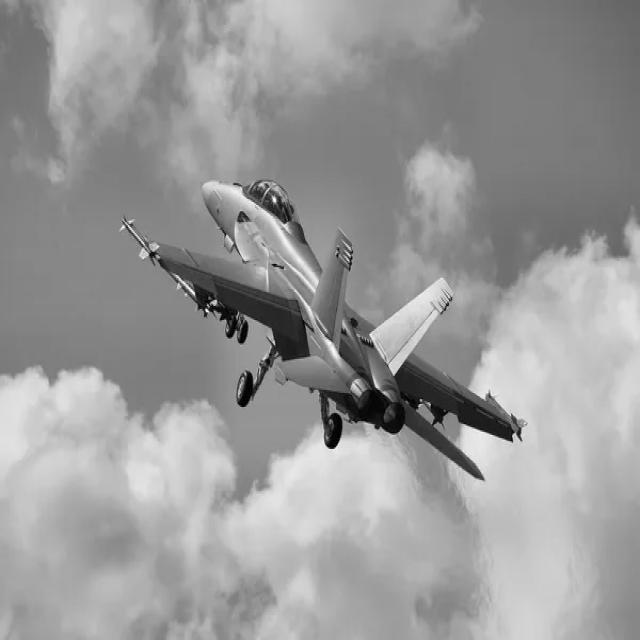Aircraft: (117, 164, 534, 490)
